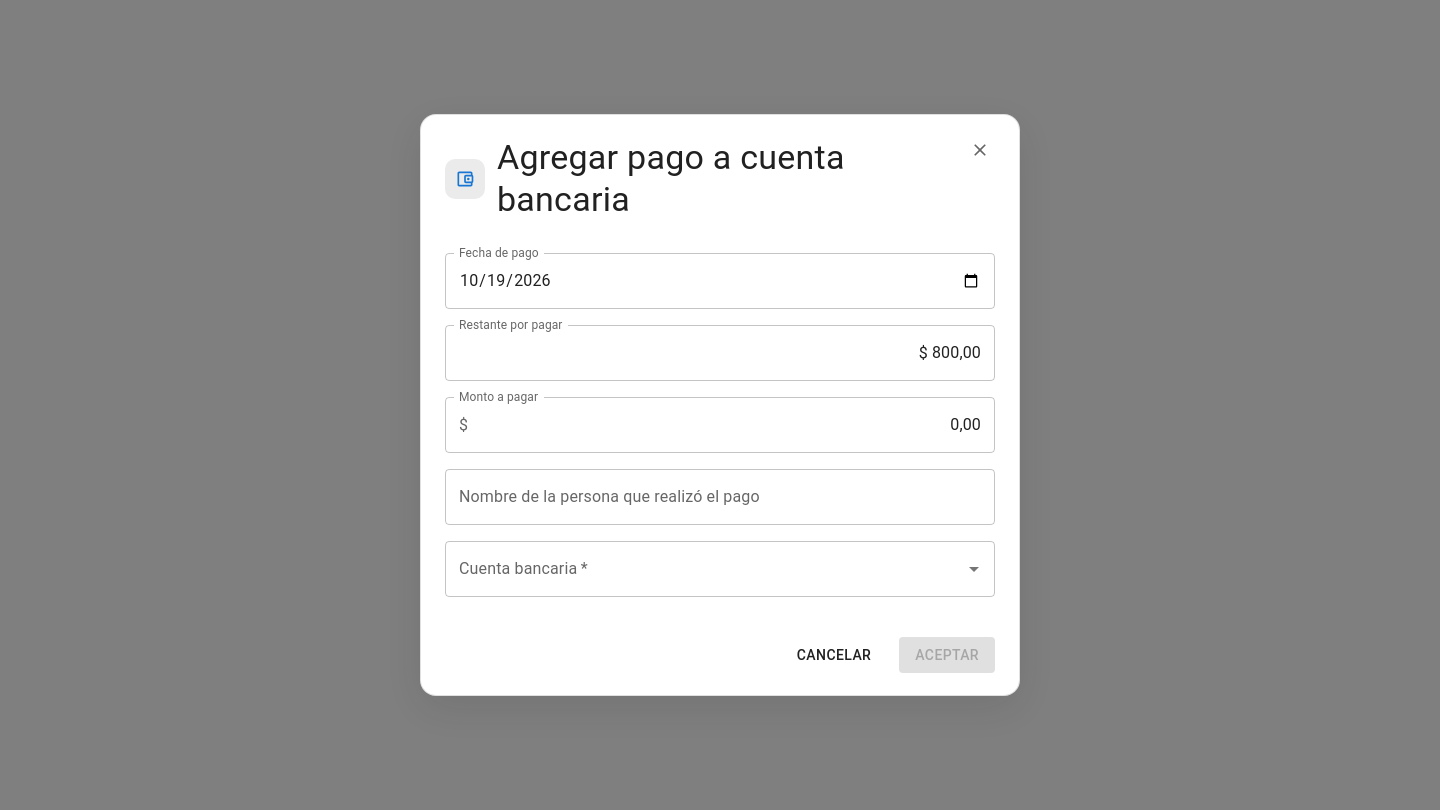
Test: BankPaymentDialog › given bank account autocomplete, when rendered, then shows options
Click the dropdown labelled "Cuenta bancaria *".
click(705, 569)  # box [454,550,956,588]
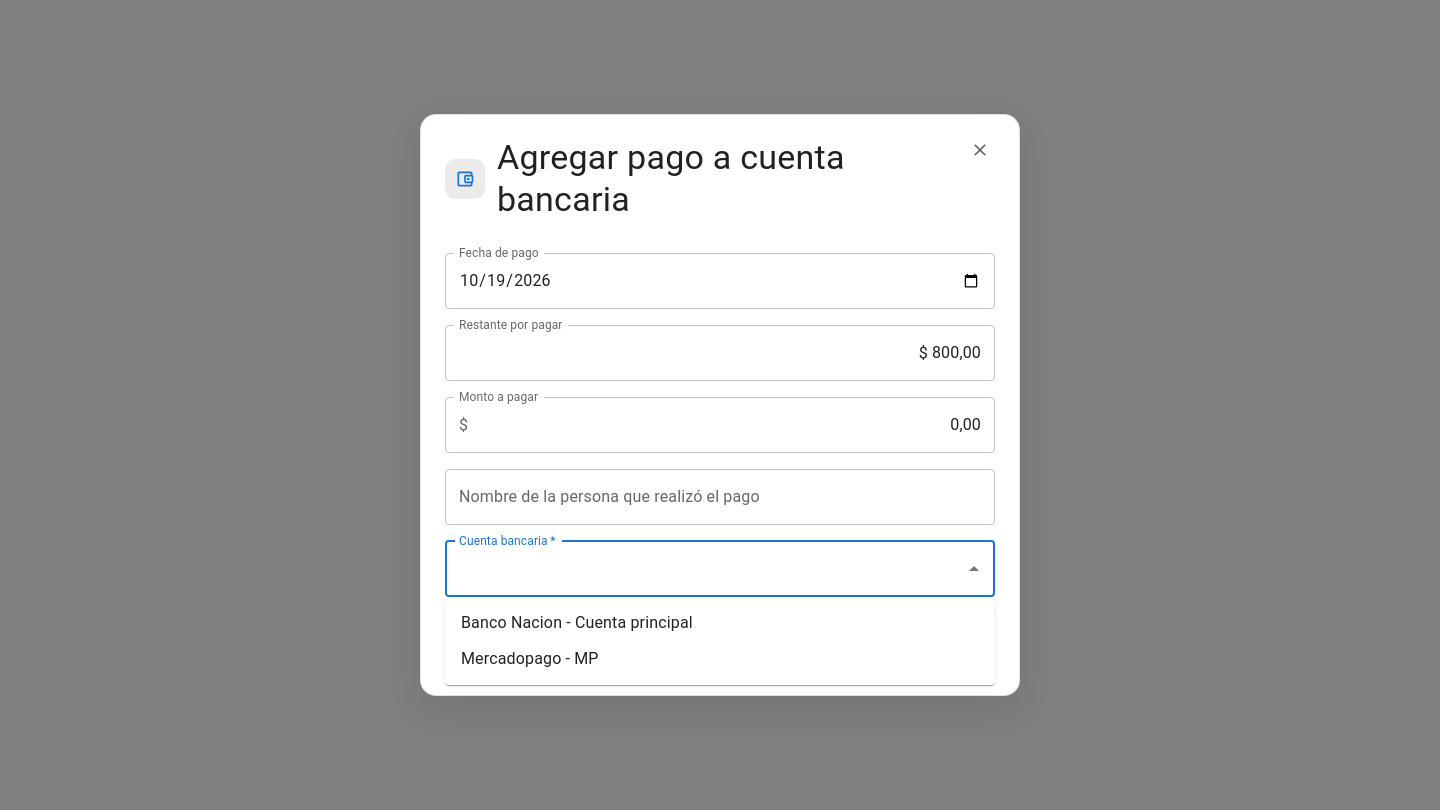
Expected: the option "Banco Nacion - Cuenta principal" is shown, [461,613,693,632]
Expected: the option "Mercadopago - MP" is shown, [461,649,599,668]
